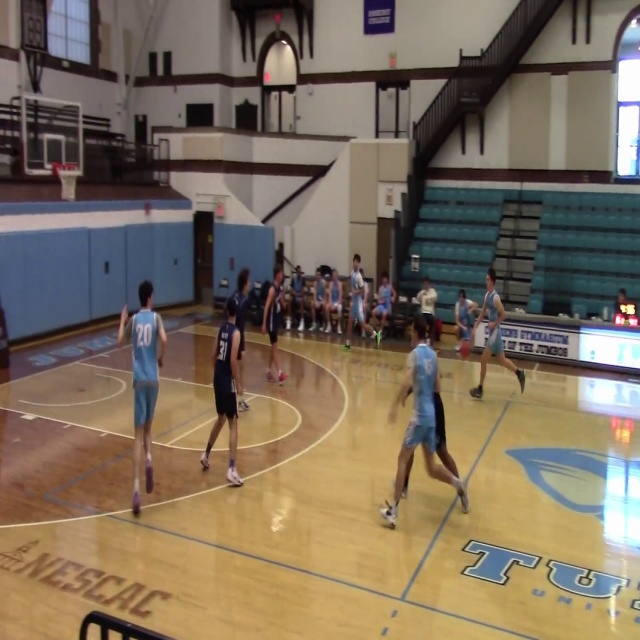Basketball: (459, 340, 471, 359), (278, 370, 287, 381)
